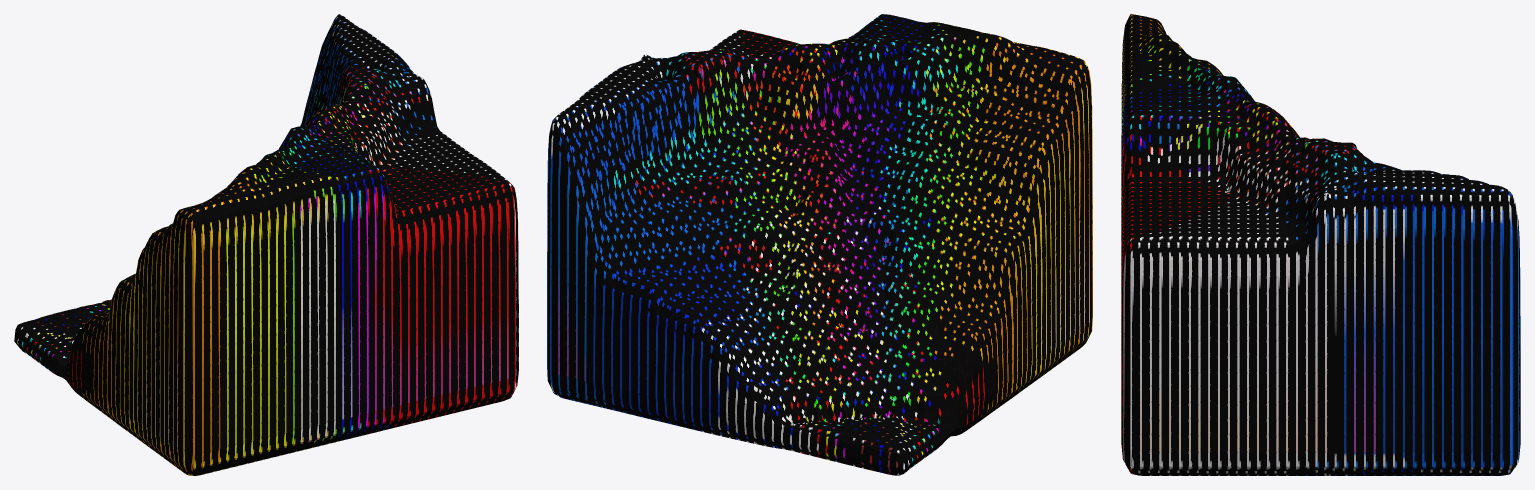
The model's file is tactical_mesh.glb.
The picture shows the model from 3 angles, left to right: view 1: azimuth 30°, elevation 25°; view 2: azimuth 150°, elevation 25°; view 3: azimuth 270°, elevation 25°; orthographic projection. The views are drawn at different scales.
Visible parts, largest first — view 1: geometry_0; view 2: geometry_0; view 3: geometry_0.
Part boxes in pixels (<box>): geometry_0: <box>14,14,518,475</box>; geometry_0: <box>547,14,1092,475</box>; geometry_0: <box>1121,14,1520,475</box>.
Bounding box in the file's own units: 311 × 249 × 289.
1 material, 1 textured.
